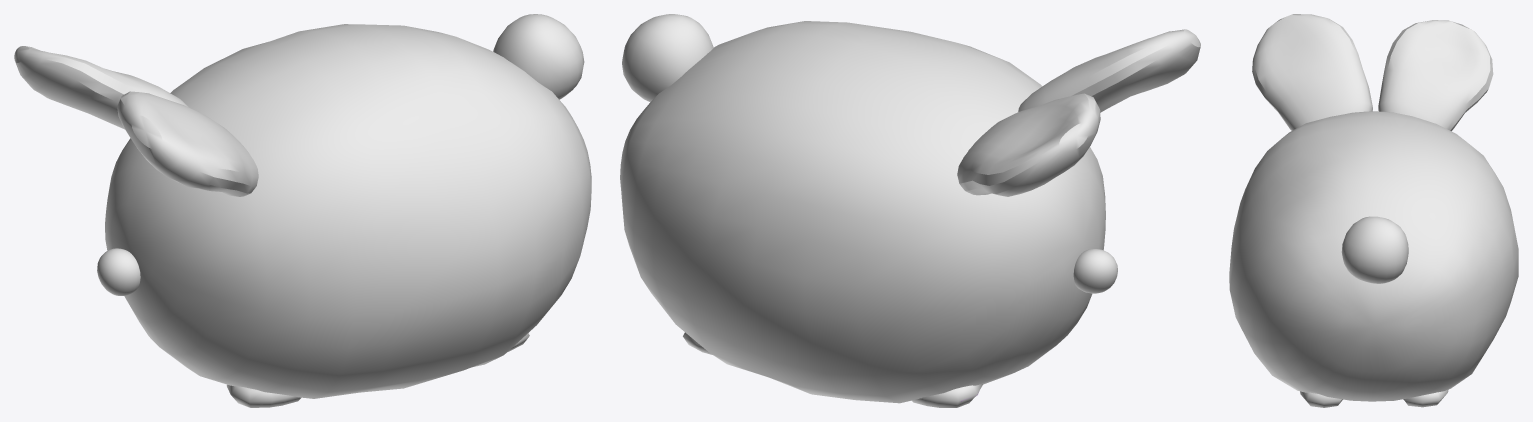
Rendered from bunny_plush_pink.fbx.
The picture shows the model from 3 angles, left to right: view 1: azimuth 30°, elevation 25°; view 2: azimuth 150°, elevation 25°; view 3: azimuth 270°, elevation 25°; orthographic projection. The views are drawn at different scales.
Parts seen in each view (by area): view 1: bunny_plush_pink; view 2: bunny_plush_pink; view 3: bunny_plush_pink.
Boxes of the visible parts, x1,y1,x2,y2 form: bunny_plush_pink: [14, 14, 591, 407]; bunny_plush_pink: [620, 14, 1200, 407]; bunny_plush_pink: [1229, 14, 1518, 407].
Bounding box in the file's own units: 0.9649 × 0.6336 × 0.644.
2 materials, 1 textured.
